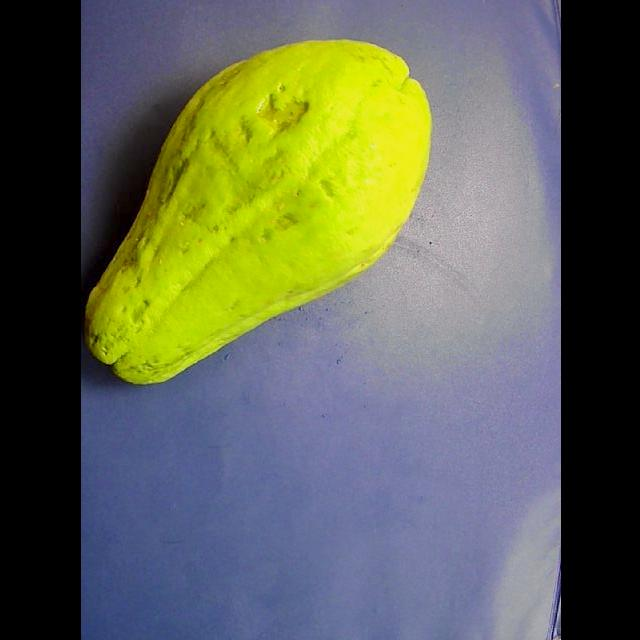chayote: (86, 40, 430, 383)
